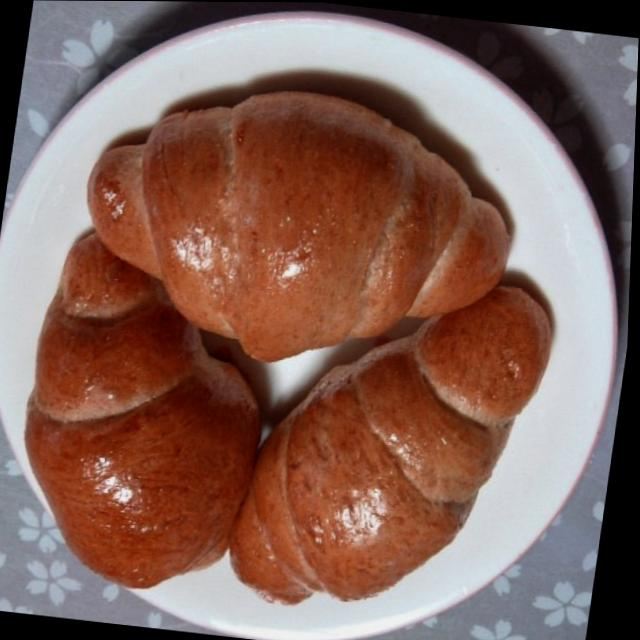面包点心: (48, 65, 531, 399)
